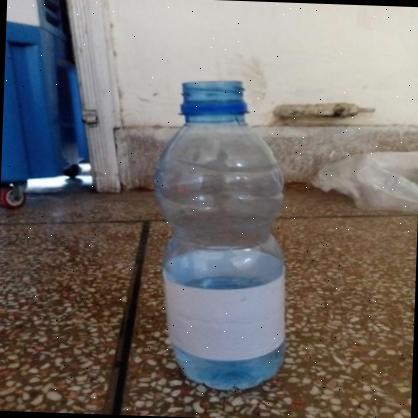bottle: (140, 71, 298, 394)
label: (150, 266, 289, 369)
